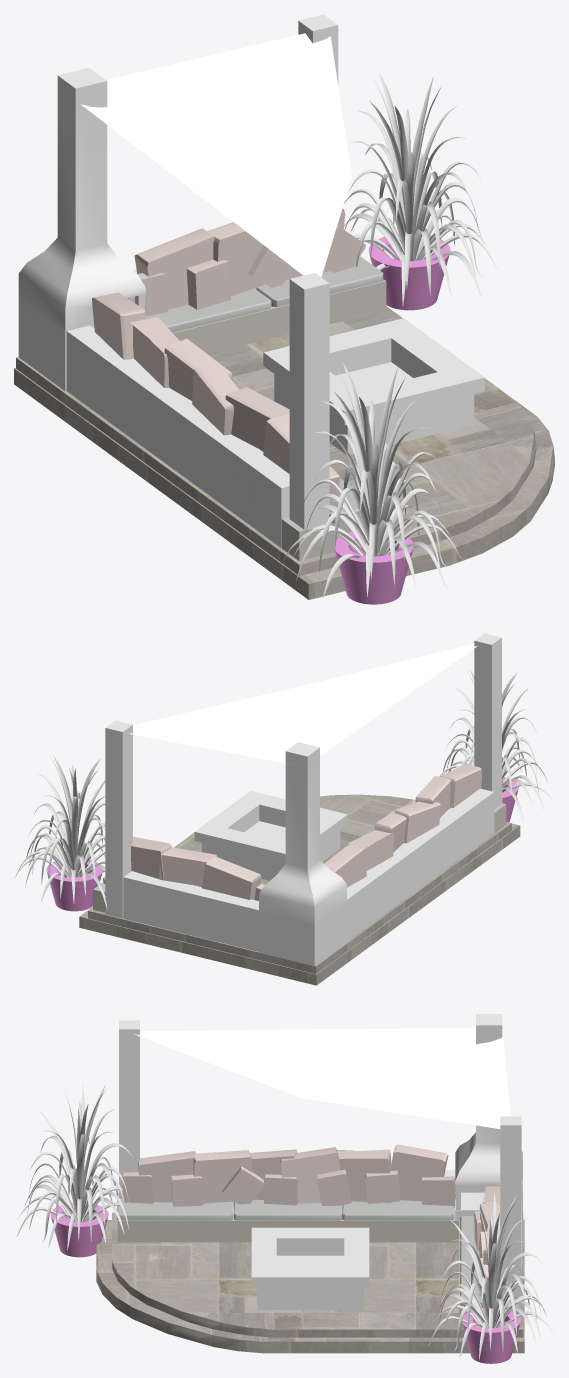
The picture shows the model from 3 angles, top to bottom: view 1: azimuth 30°, elevation 25°; view 2: azimuth 150°, elevation 25°; view 3: azimuth 270°, elevation 25°; orthographic projection. The views are drawn at different scales.
Visible parts, largest first — view 1: Plane, Cube_1_5, Cube_2_3, Cube_1_4, Cube_4_3, Cube, yucca_01_02_leaves_01, yucca_01_02_leaves_01_2, Cube_7_21, Cube_4_2, Cube_6_2, Tube (+22 smaller); view 2: Plane, Cube_1_4, Cube_2_3, Cube_1_5, Cube_3_3, Cube_4_3, Cube_1, yucca_01_02_leaves_01_2, Cube, Cube_2_2, Cube_7_21, yucca_01_02_leaves_01 (+14 smaller); view 3: Plane, Cube_1_5, Cube_4_3, Cube_5_2, Cube_7_21, yucca_01_02_leaves_01_2, yucca_01_02_leaves_01, Cube_1, Cube_1_4, Cube, Cube_6_2, Cube_7_15 (+24 smaller).
Part boxes in pixels (box(x1,y1,x2,y2)): Plane: box(81, 33, 351, 277); Cube_1_5: box(16, 307, 536, 575); Cube_2_3: box(66, 325, 289, 547); Cube_1_4: box(18, 67, 145, 330); Cube_4_3: box(14, 306, 554, 599); Cube: box(289, 273, 329, 529); yucca_01_02_leaves_01: box(281, 362, 462, 596); yucca_01_02_leaves_01_2: box(344, 72, 498, 305); Cube_7_21: box(263, 318, 484, 425); Cube_4_2: box(172, 279, 386, 353); Cube_6_2: box(274, 374, 474, 454); Tube: box(334, 529, 413, 604); Plane: box(129, 644, 477, 763); Cube_1_4: box(259, 742, 346, 930); Cube_2_3: box(347, 788, 494, 940); Cube_1_5: box(88, 794, 511, 973); Cube_3_3: box(123, 871, 258, 951); Cube_4_3: box(79, 823, 520, 985); Cube_1: box(105, 720, 132, 918); yucca_01_02_leaves_01_2: box(15, 755, 107, 908); Cube: box(474, 633, 501, 808); Cube_2_2: box(259, 900, 346, 965); Cube_7_21: box(194, 791, 347, 863); yucca_01_02_leaves_01: box(439, 670, 547, 822); Plane: box(134, 1027, 510, 1128); Cube_1_5: box(112, 1212, 523, 1337); Cube_4_3: box(96, 1220, 524, 1353); Cube_5_2: box(117, 1192, 459, 1242); Cube_7_21: box(251, 1227, 369, 1287); yucca_01_02_leaves_01_2: box(436, 1194, 554, 1359); yucca_01_02_leaves_01: box(25, 1085, 132, 1250); Cube_1: box(500, 1116, 521, 1321); Cube_1_4: box(455, 1014, 522, 1204); Cube: box(119, 1020, 139, 1197); Cube_6_2: box(257, 1287, 363, 1309); Cube_7_15: box(390, 1144, 448, 1201).
Size of the model in its own units: 402 by 255 by 550.
11 materials, 2 textured.
